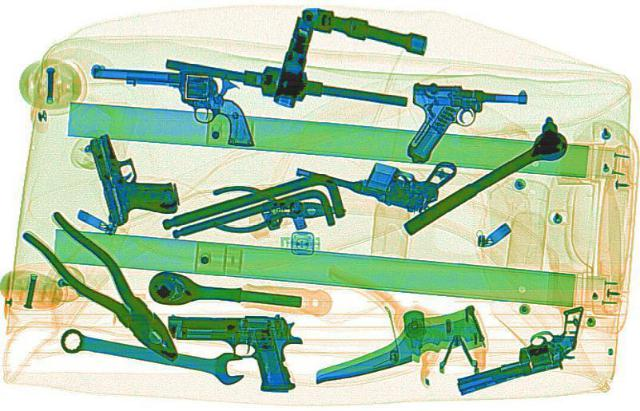Gun: (422, 303, 620, 395), (76, 64, 268, 146), (286, 129, 462, 214), (393, 80, 529, 168), (160, 310, 302, 391), (80, 128, 184, 225)
Pliers: (12, 208, 202, 367), (210, 185, 340, 230)
Wrench: (51, 322, 252, 385)
